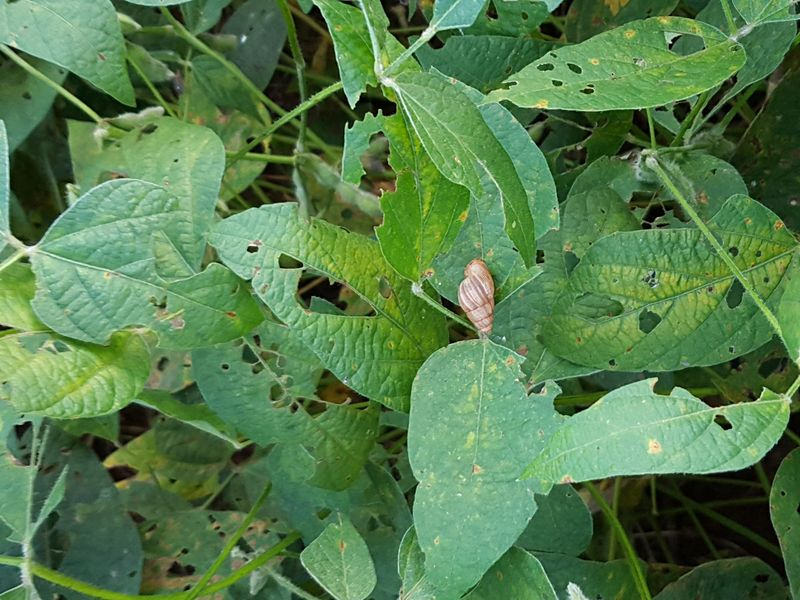Gastropoda: (443, 252, 511, 339)
